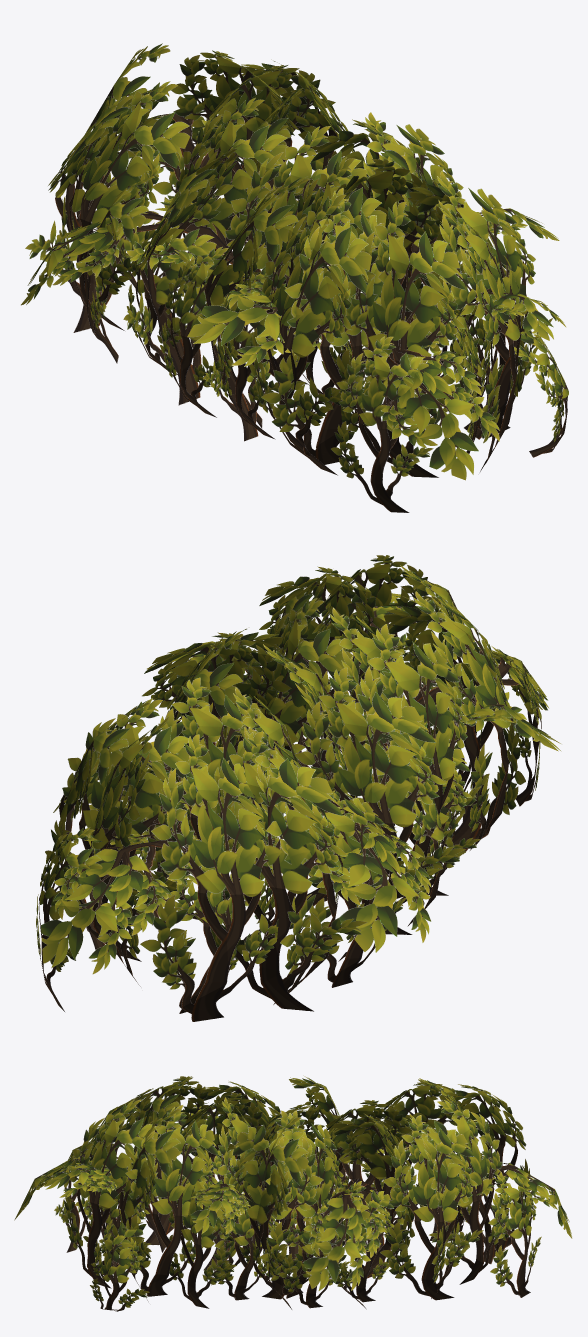
The model's file is Hedgerow_01.FBX.
3 views of the same model, one above another, from view 1: azimuth 30°, elevation 25°; view 2: azimuth 150°, elevation 25°; view 3: azimuth 270°, elevation 25° (orthographic). The views are drawn at different scales.
Visible parts, largest first — view 1: Hedgerow_01; view 2: Hedgerow_01; view 3: Hedgerow_01.
Part boxes in pixels (x1,y1,x2,y2): Hedgerow_01: (21,43,568,512); Hedgerow_01: (36,555,561,1021); Hedgerow_01: (14,1075,572,1311).
Bounding box in the file's own units: 1.75 × 1.1 × 2.86.
